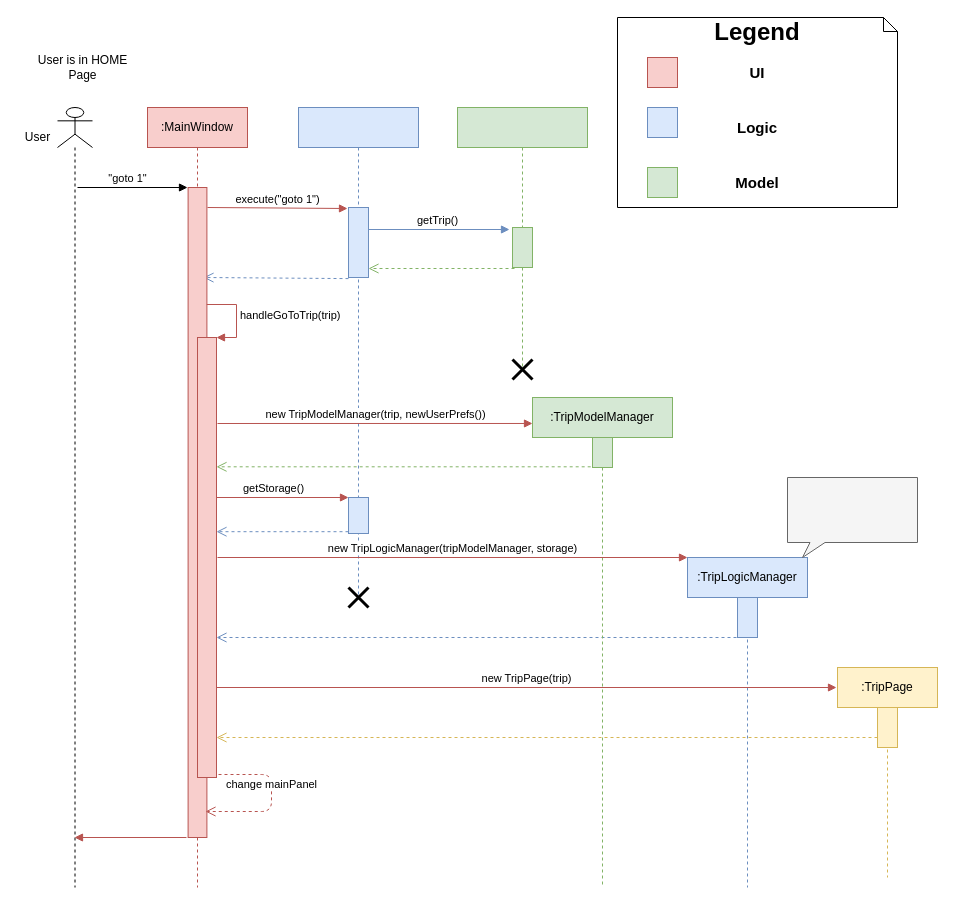
This 955x905 diagram has some shape labels left out. Here are the shapes that lost their labels. From the top down, the box of each, then its label:
(456, 106, 588, 368): :HomeModelManager
(298, 106, 418, 598): :HomeLogicManager
(786, 476, 918, 558): Page specific Logic Manager created with default storage access
